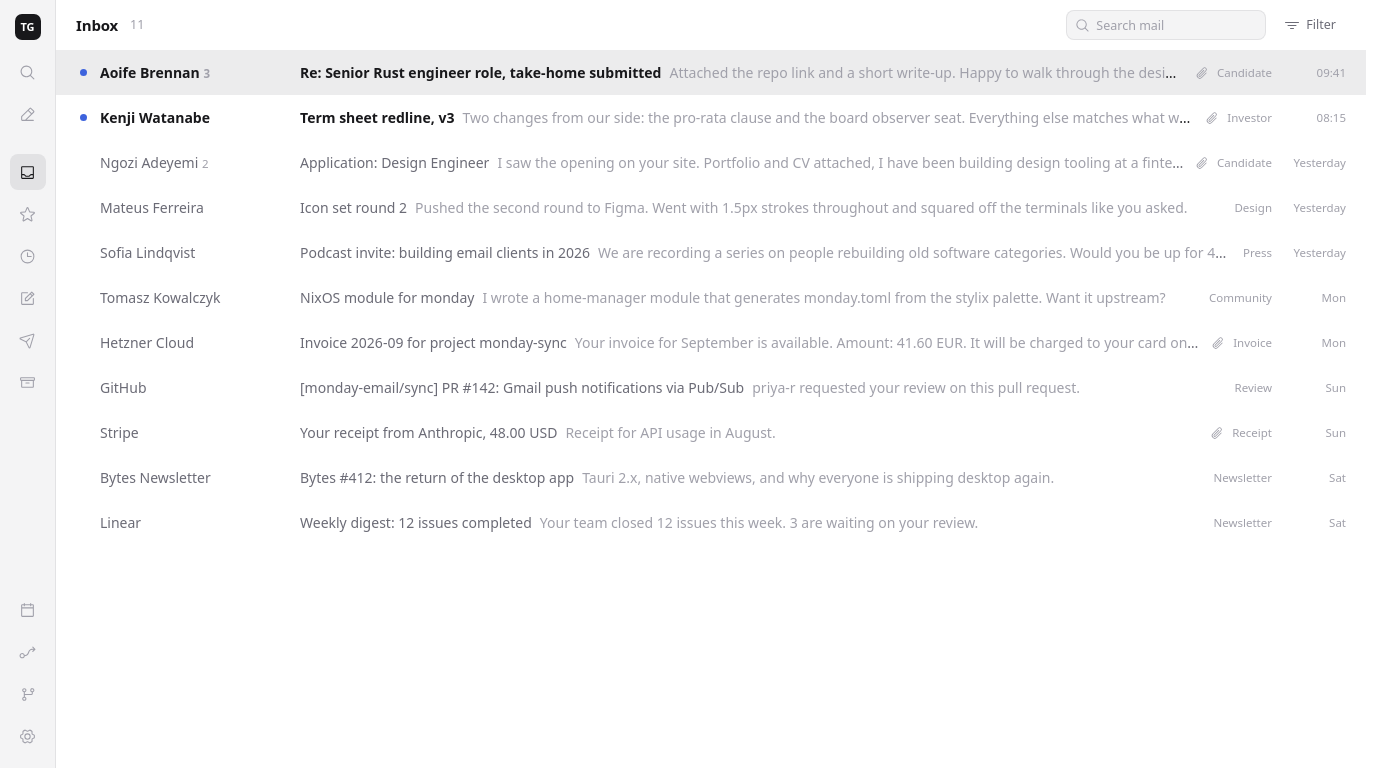
Test: the Mail folders › the rail reaches the folders too and marks the one open
What coordinates should you click on to do the following:
click the button named "Archive"
I would click on:
 (28, 382)
Its box is [10,364,46,400].
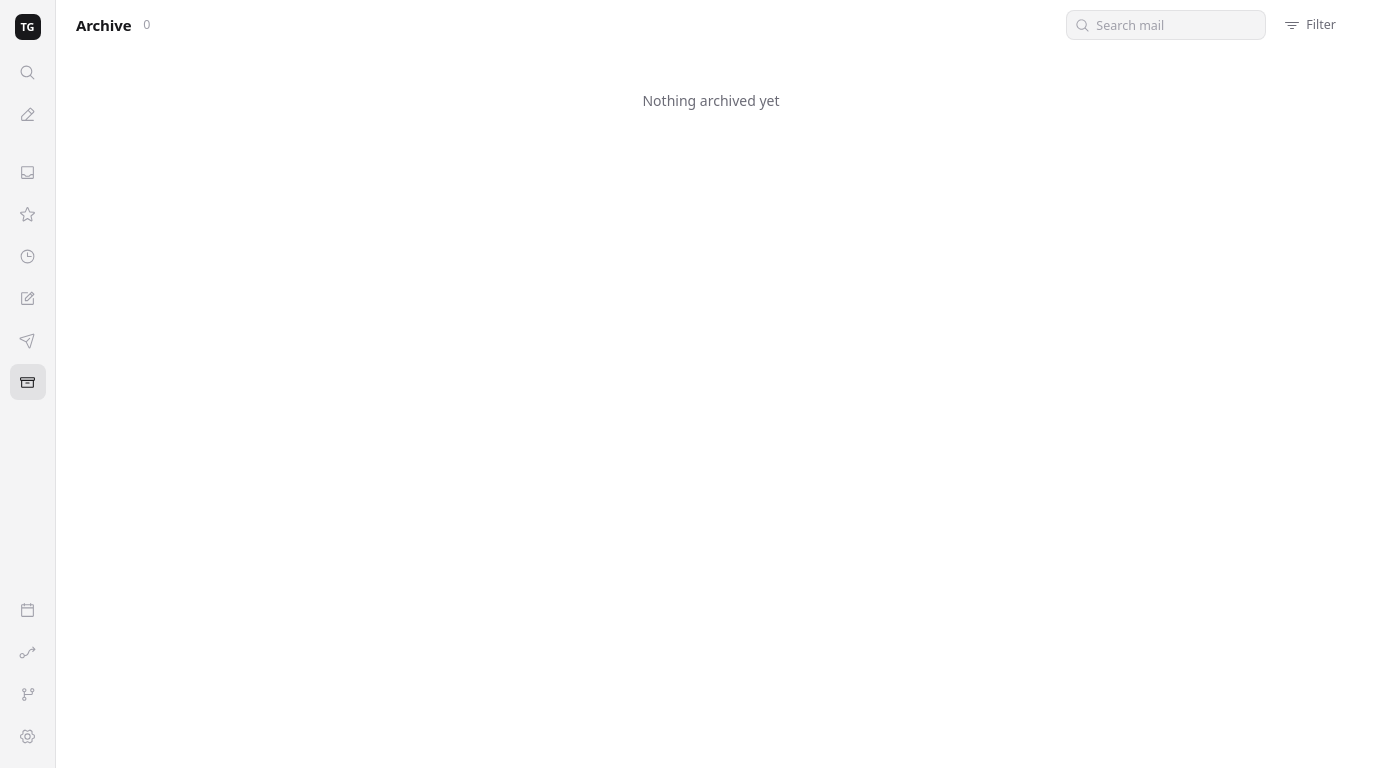
Expected: the heading "Archive" is shown, [76,14,131,36]
